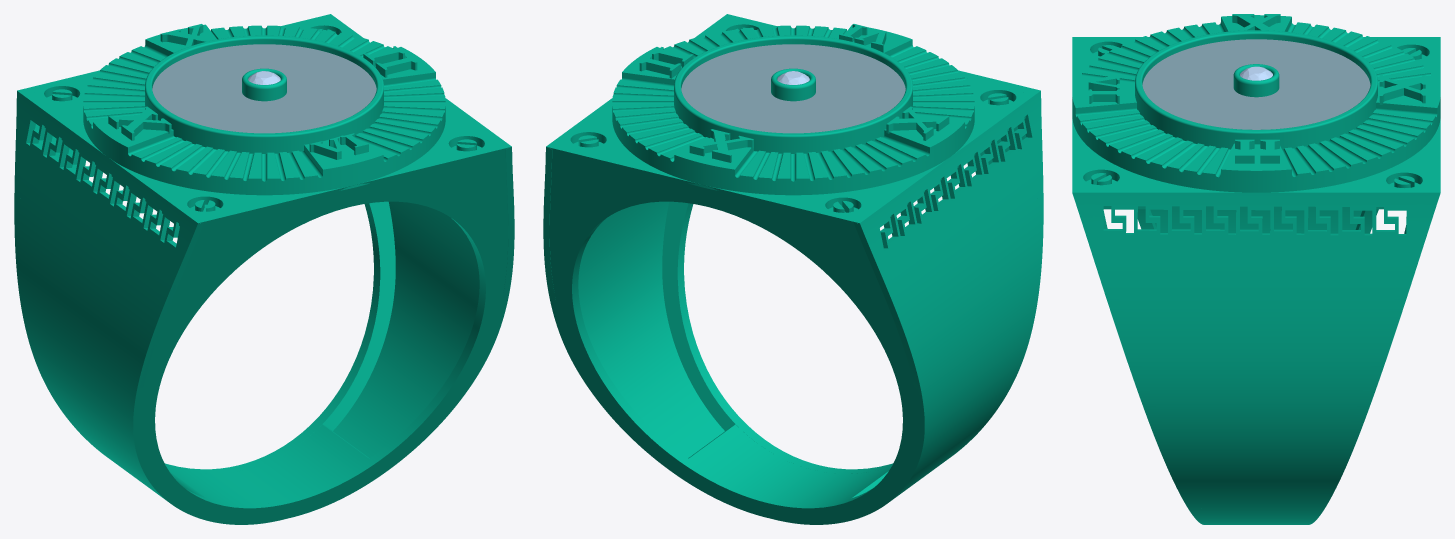
3 renders of one model, left to right at view 1: azimuth 30°, elevation 25°; view 2: azimuth 150°, elevation 25°; view 3: azimuth 270°, elevation 25°, orthographic.
Visible parts, largest first — view 1: E 51.3dm; view 2: E 51.3dm; view 3: E 51.3dm.
Boxes of the visible parts, x1,y1,x2,y2 form: E 51.3dm: [14, 14, 514, 524]; E 51.3dm: [543, 14, 1043, 524]; E 51.3dm: [1072, 14, 1440, 524].
Size of the model in its own units: 2.34 by 2.57 by 1.98.
